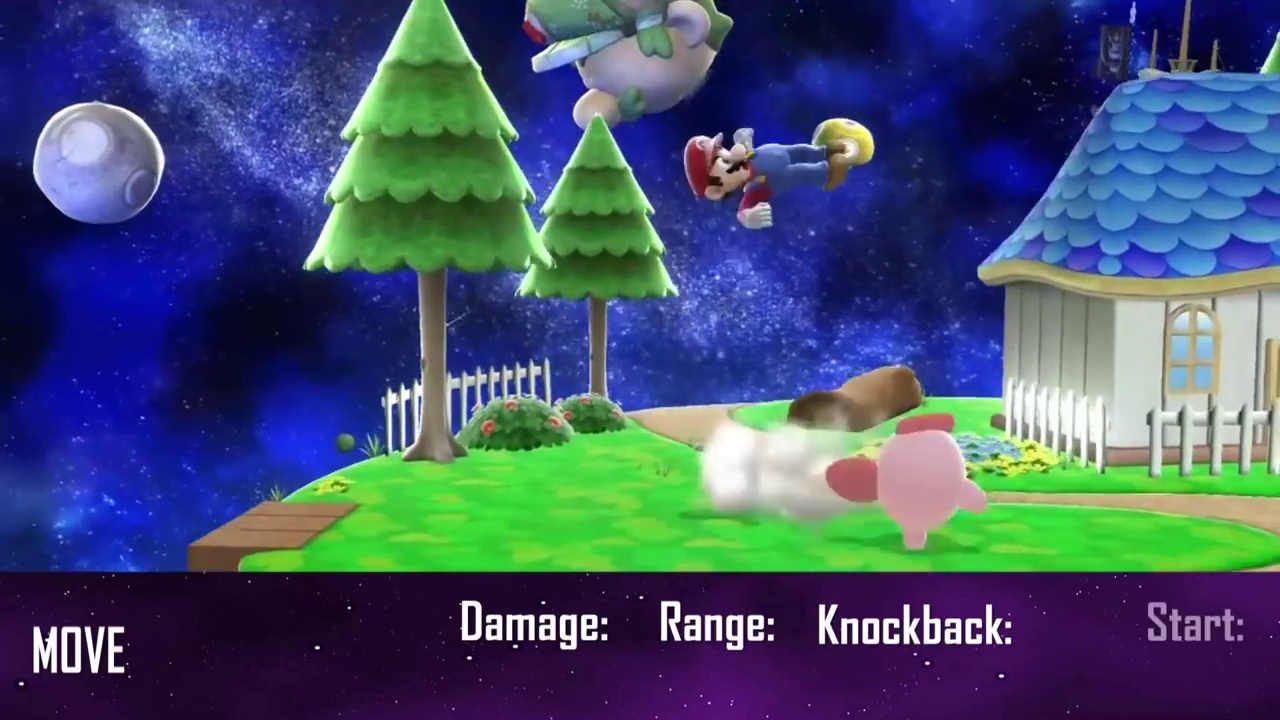Mario: (682, 126, 849, 228)
